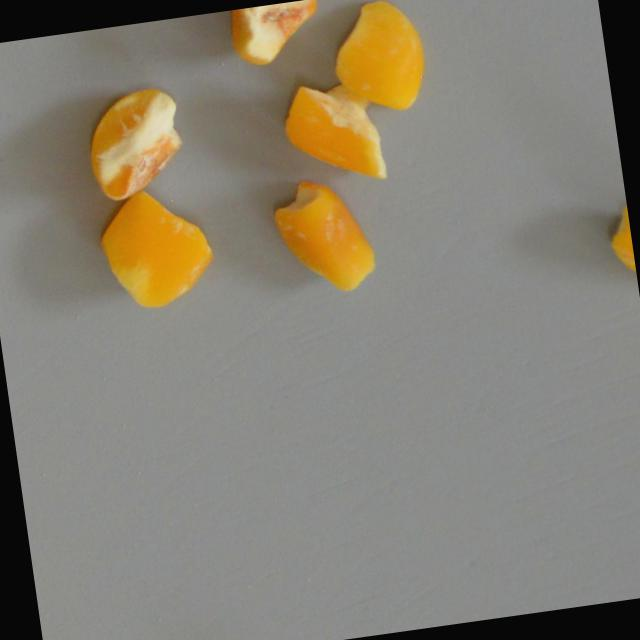dañado: (78, 84, 188, 205), (227, 0, 327, 70)
estandar: (324, 0, 431, 119), (605, 204, 639, 296)
pelicula: (91, 181, 219, 314), (265, 171, 379, 302), (276, 74, 391, 194)
